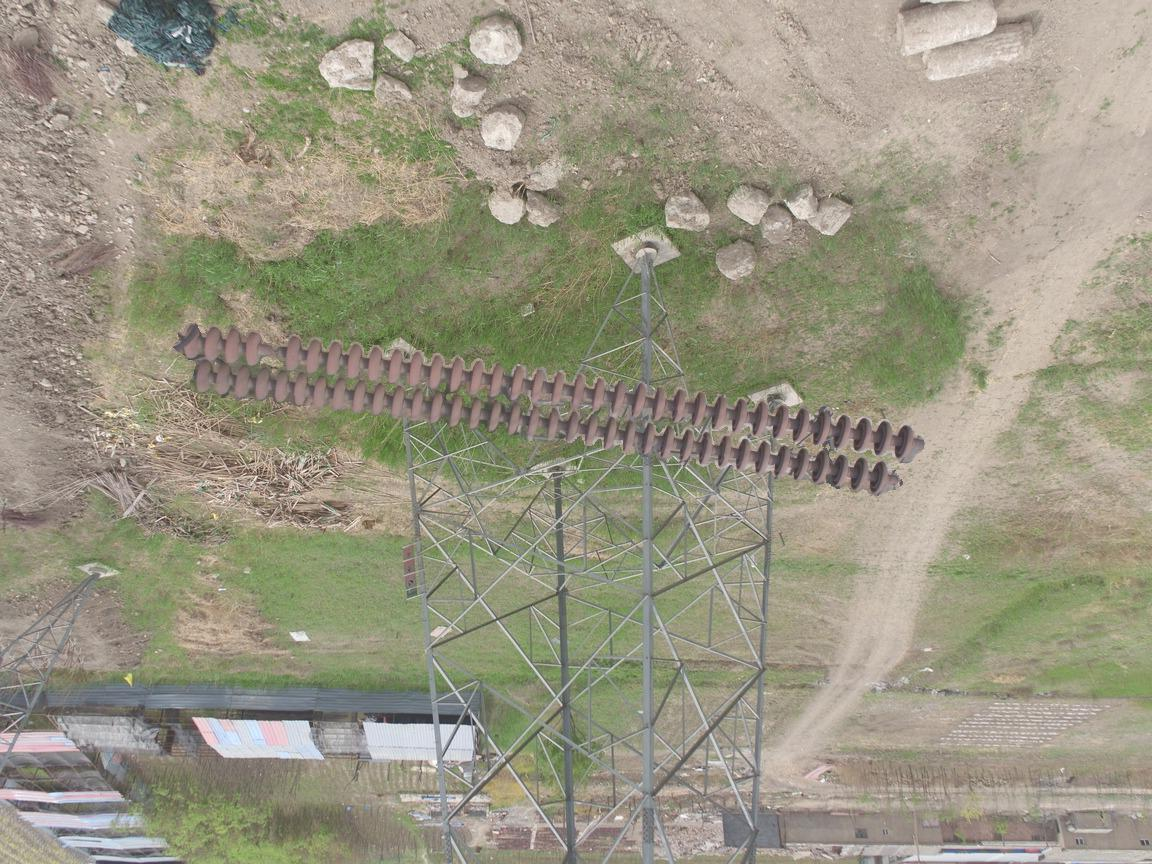insulator: (178, 316, 924, 498)
insulator_stringdrop: (240, 329, 304, 375)
